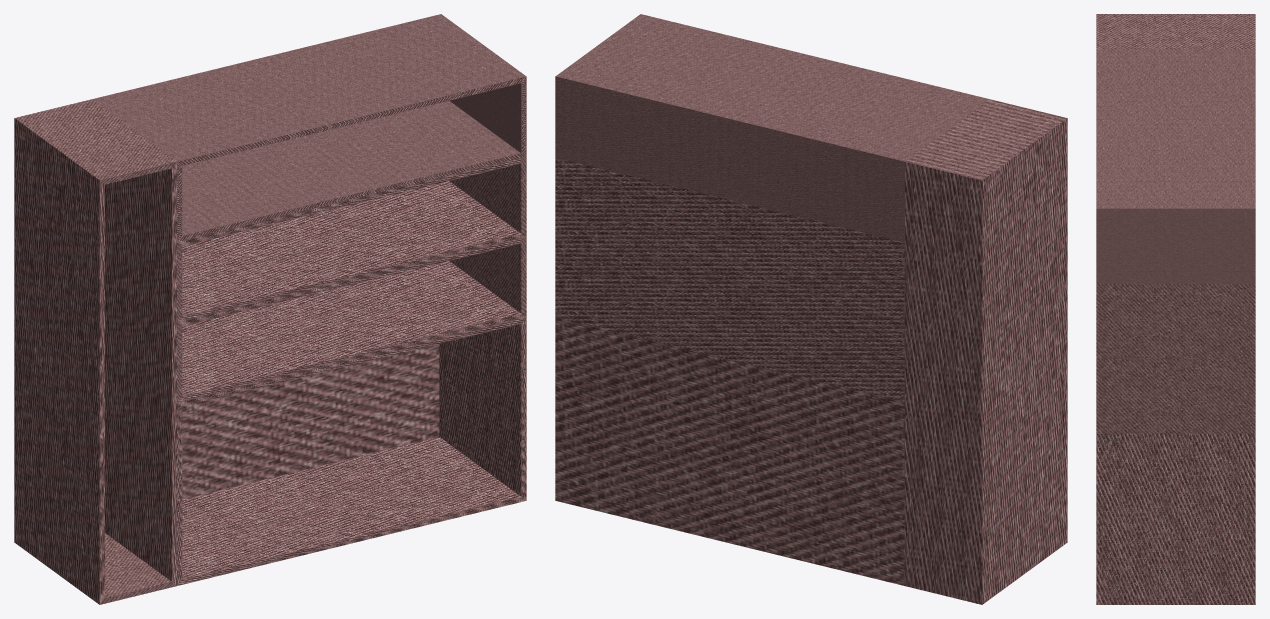
Rendered from Estanteria.fbx.
3 renders of one model, left to right at view 1: azimuth 30°, elevation 25°; view 2: azimuth 150°, elevation 25°; view 3: azimuth 270°, elevation 25°, orthographic. The views are drawn at different scales.
Visible parts, largest first — view 1: Box014; view 2: Box014; view 3: Box014.
Part boxes in pixels (box(x1,y1,x2,y2)): Box014: box(14, 14, 526, 604); Box014: box(555, 14, 1067, 604); Box014: box(1096, 14, 1255, 604).
Size of the model in its own units: 42.56 by 40.45 by 14.72.
